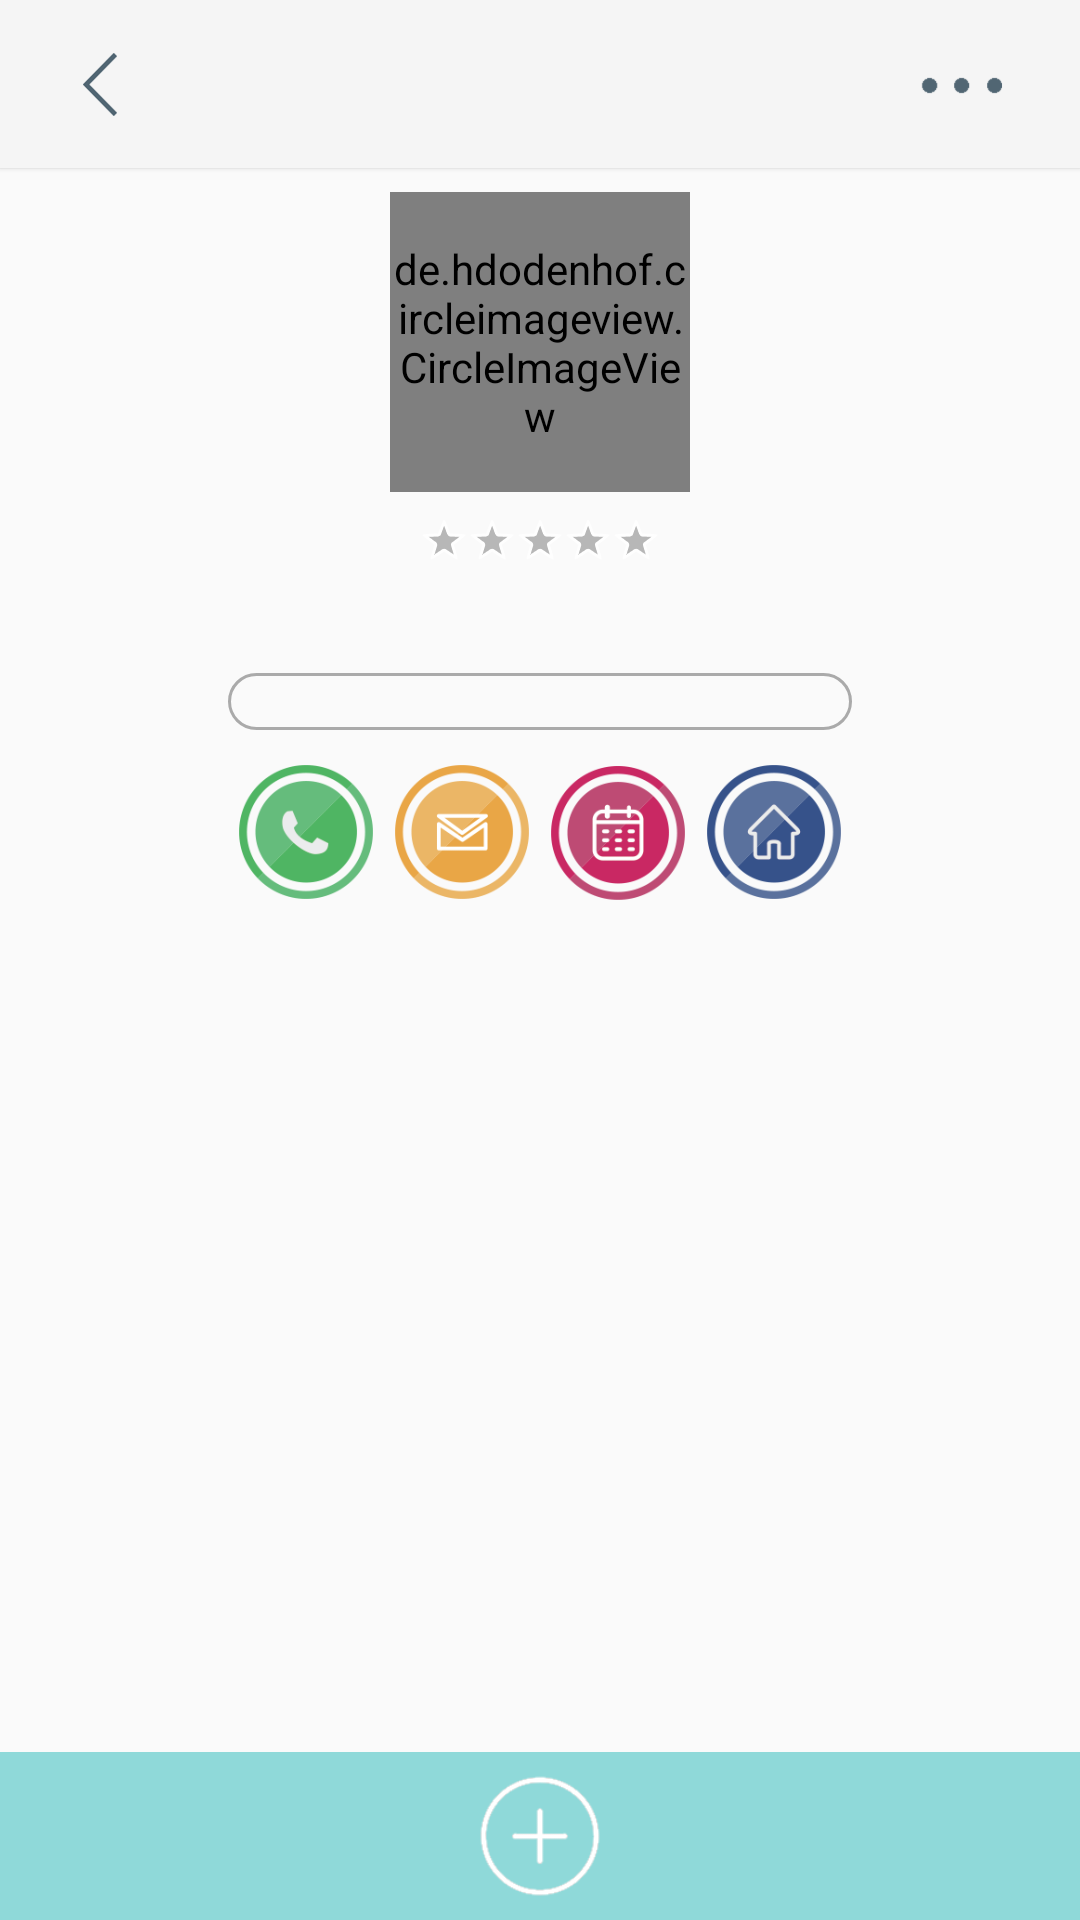

Icons on this 1080px×1920px Android screen, each with the point to tap as [x,y]:
back arrow: [100,84]
menu: [962,85]
sub call: [306,832]
sub day: [618,833]
sub home: [774,832]
sub mail: [462,832]
